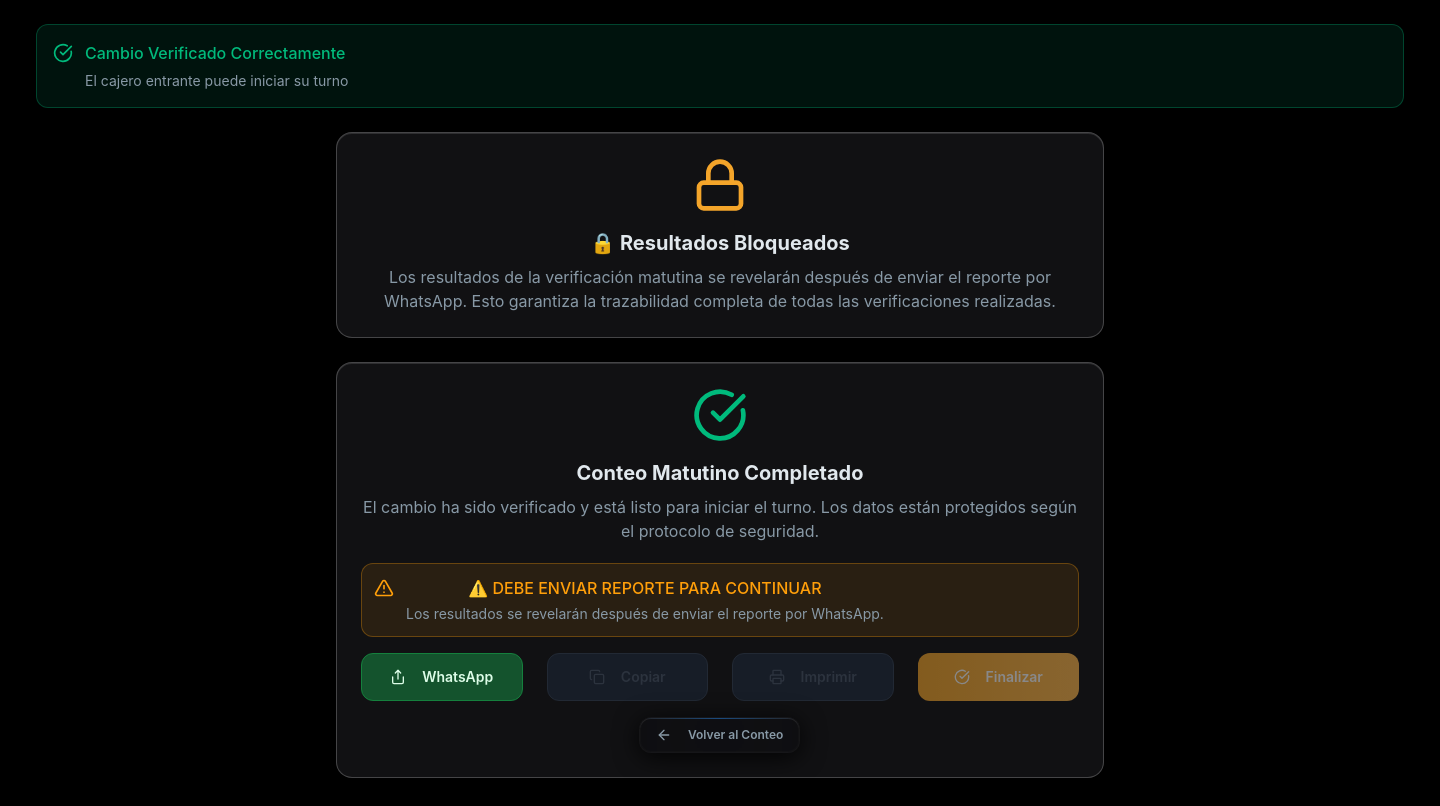
Test: MorningVerification - v1.3.7 WhatsApp Confirmation Flow › Grupo 2: Flujo WhatsApp exitoso › 2.3 - Click confirmación debe desbloquear resultados
The width and height of the screenshot is (1440, 806).
Abrir WhatsApp
Click the button "WhatsApp" at (442, 677), box left=361, top=653, right=522, bottom=701
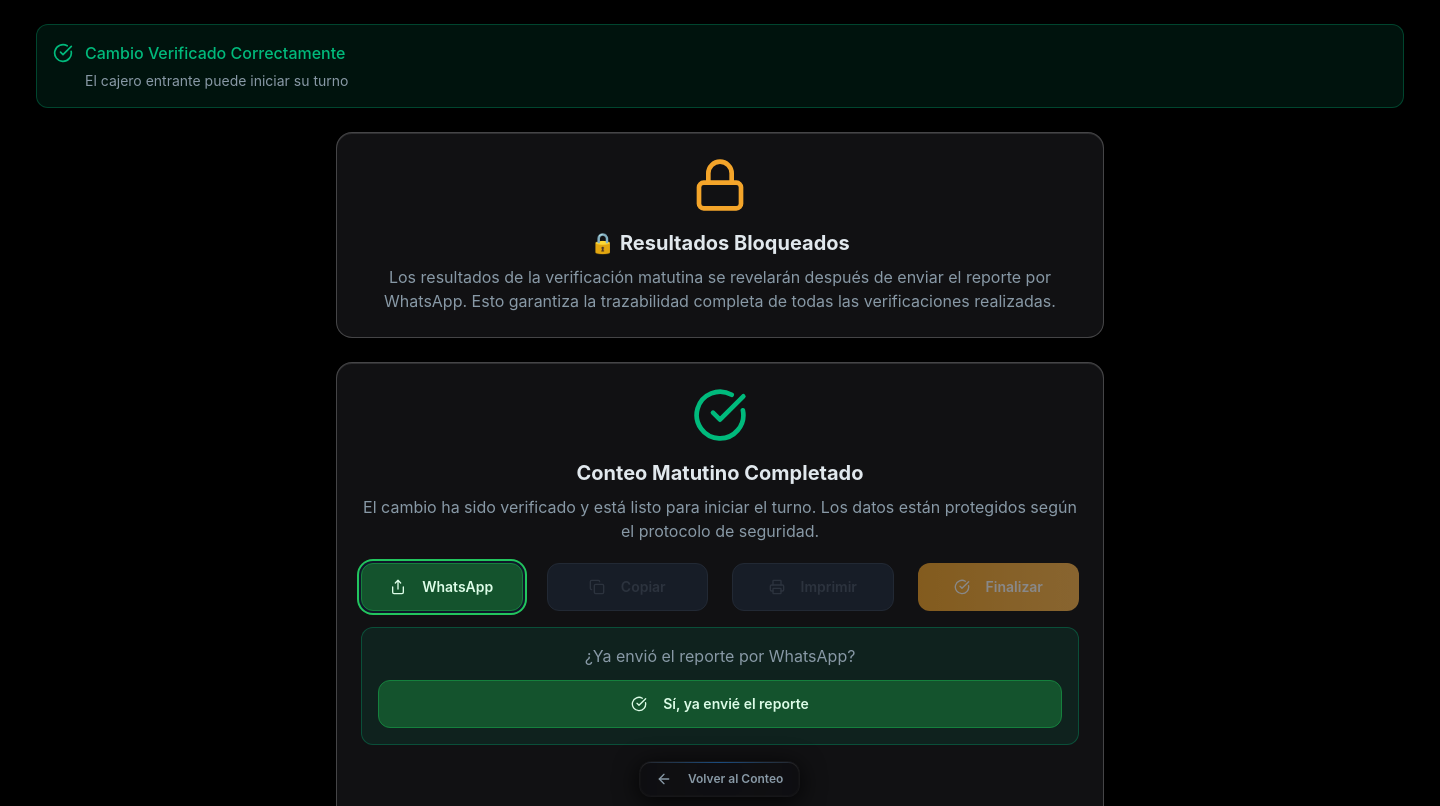
Confirmar envío
Click the button "Sí, ya envié el reporte" at (720, 704), box left=378, top=680, right=1062, bottom=728
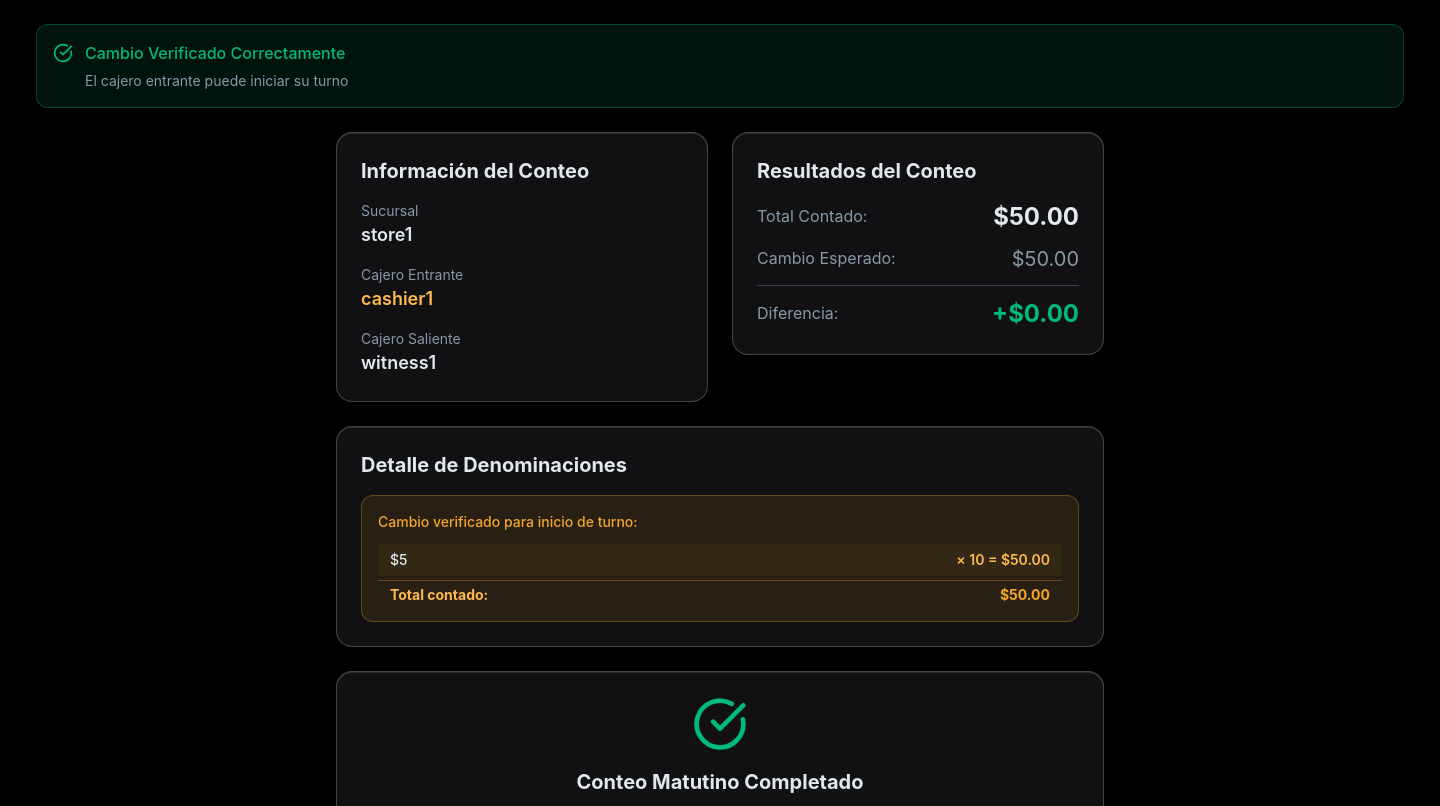
Result: the text "Total Contado:" is shown at left=757, top=204, right=867, bottom=230
Result: the heading "🔒 Resultados Bloqueados" is gone
